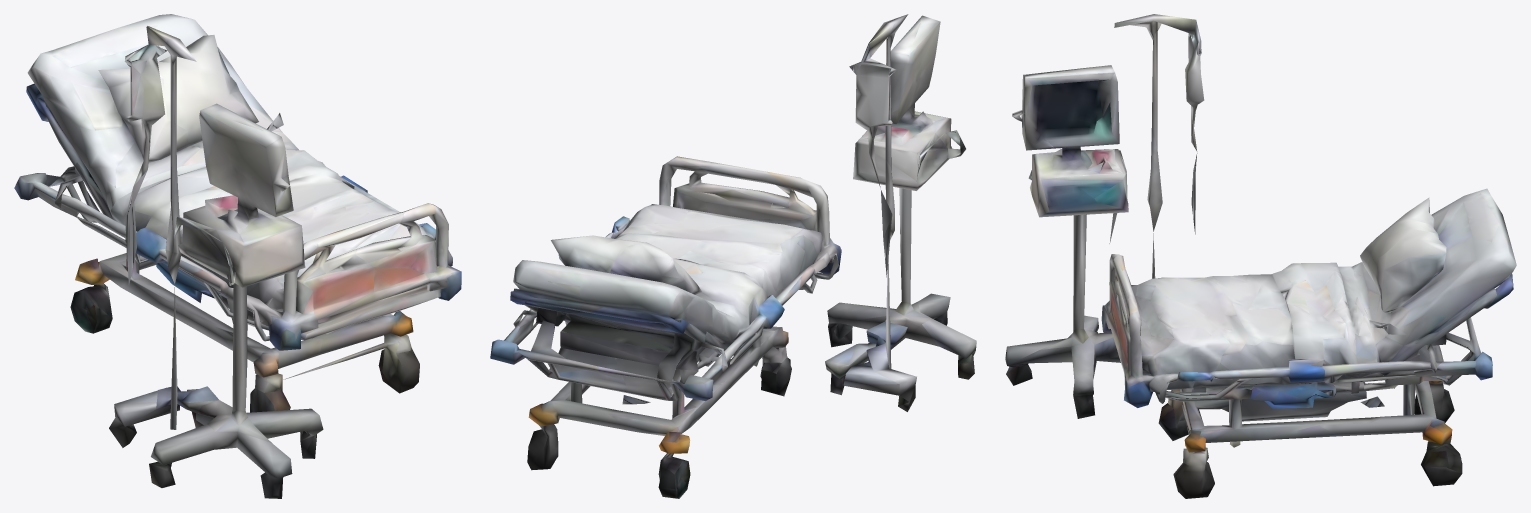
Rendered from hospital-bed.glb.
3 renders of one model, left to right at view 1: azimuth 30°, elevation 25°; view 2: azimuth 150°, elevation 25°; view 3: azimuth 270°, elevation 25°, orthographic. The views are drawn at different scales.
Visible parts, largest first — view 1: tripo_node_738c0f04-66ac-47d8-b558-2498268f1c2e; view 2: tripo_node_738c0f04-66ac-47d8-b558-2498268f1c2e; view 3: tripo_node_738c0f04-66ac-47d8-b558-2498268f1c2e.
Part boxes in pixels (x1,y1,x2,y2): tripo_node_738c0f04-66ac-47d8-b558-2498268f1c2e: (14,14,461,498); tripo_node_738c0f04-66ac-47d8-b558-2498268f1c2e: (490,14,976,498); tripo_node_738c0f04-66ac-47d8-b558-2498268f1c2e: (1005,14,1516,498).
Size of the model in its own units: 0.6724 by 0.8101 by 1.
Materials: 1 (1 with a texture image).
